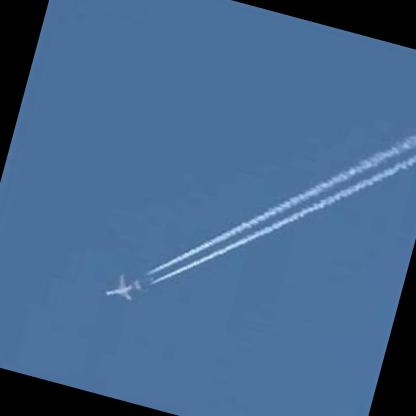plane: (94, 257, 154, 319)
